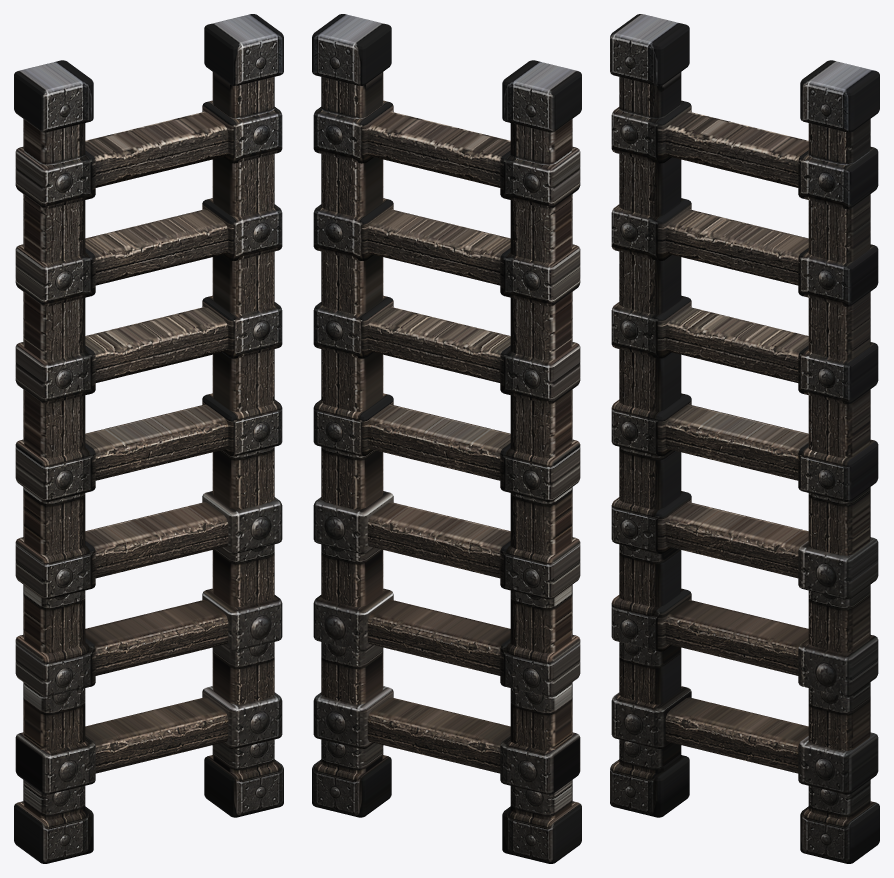
Rendered from Ladder_placeholder.fbx.
The picture shows the model from 3 angles, left to right: view 1: azimuth 30°, elevation 25°; view 2: azimuth 150°, elevation 25°; view 3: azimuth 330°, elevation 25°; orthographic projection.
Parts seen in each view (by area): view 1: Ladder_placeholder; view 2: Ladder_placeholder; view 3: Ladder_placeholder.
Part boxes in pixels (bbox=[...]): Ladder_placeholder: bbox=[14, 14, 283, 863]; Ladder_placeholder: bbox=[312, 14, 581, 863]; Ladder_placeholder: bbox=[610, 14, 879, 863].
Bounding box in the file's own units: 95.2 × 289 × 20.87.
